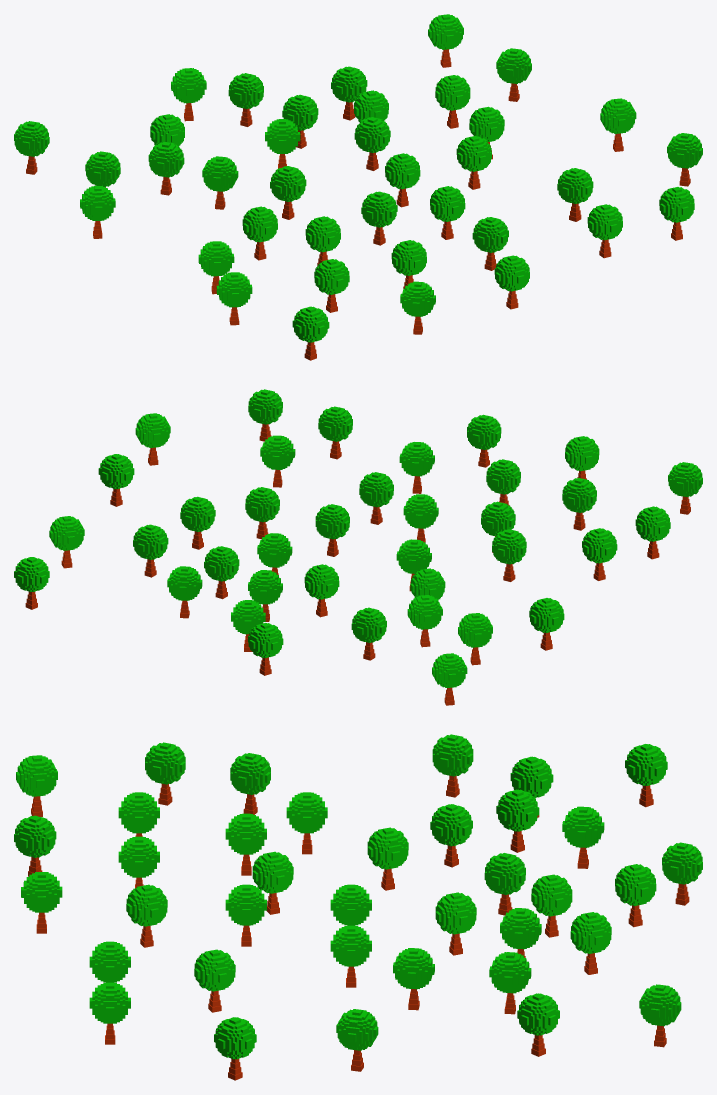
File: tree1.obj
3 views of the same model, one above another, from view 1: azimuth 30°, elevation 25°; view 2: azimuth 150°, elevation 25°; view 3: azimuth 270°, elevation 25° (orthographic). The views are drawn at different scales.
Visible parts, largest first — view 1: 球.034_球.043, 球.019_球.028, 球.006_球.007, 球.011_球.017, 球.007_球.008, 球.010_球.016, 球.017_球.026, 球.009_球.015, 球.013_球.019, 球, 球.029_球.038, 球.001_球.002 (+25 smaller); view 2: 球.024_球.033, 球.027_球.036, 球.013_球.019, 球.022_球.031, 球.014_球.020, 球.015_球.021, 球.033_球.042, 球.021_球.030, 球.032_球.041, 球.016_球.025, 球.017_球.026, 球.018_球.027 (+25 smaller); view 3: 球.029_球.038, 球.023_球.032, 球.020_球.029, 球.035_球.044, 球.025_球.034, 球.024_球.033, 球.030_球.039, 球.028_球.037, 球.011_球.017, 球.007_球.008, 球.010_球.016, 球.012_球.018 (+25 smaller).
Boxes of the visible parts, x1,y1,x2,y2 form: 球.034_球.043: (292, 306, 329, 342); 球.019_球.028: (361, 191, 397, 227); 球.006_球.007: (354, 117, 390, 152); 球.011_球.017: (472, 217, 508, 252); 球.007_球.008: (270, 166, 306, 201); 球.010_球.016: (557, 168, 593, 203); 球.017_球.026: (314, 259, 349, 294); 球.009_球.015: (659, 187, 694, 222); 球.013_球.019: (435, 75, 470, 110); 球: (385, 153, 420, 189); 球.029_球.038: (148, 142, 184, 177); 球.001_球.002: (456, 136, 491, 171); 球.024_球.033: (14, 557, 49, 591); 球.027_球.036: (582, 528, 617, 563); 球.013_球.019: (133, 524, 168, 559); 球.022_球.031: (98, 454, 134, 488); 球.014_球.020: (180, 496, 215, 531); 球.015_球.021: (204, 546, 239, 581); 球.033_球.042: (635, 506, 670, 541); 球.021_球.030: (351, 607, 386, 642); 球.032_球.041: (248, 623, 283, 658); 球.016_球.025: (486, 459, 520, 494); 球.017_球.026: (562, 477, 596, 512); 球.018_球.027: (492, 529, 526, 564); 球.029_球.038: (496, 789, 539, 831); 球.023_球.032: (214, 1017, 256, 1059); 球.020_球.029: (430, 804, 472, 846); 球.035_球.044: (14, 815, 56, 857); 球.025_球.034: (517, 993, 559, 1035); 球.024_球.033: (639, 984, 681, 1026); 球.030_球.039: (432, 734, 473, 776); 球.028_球.037: (625, 744, 667, 785); 球.011_球.017: (126, 884, 167, 926); 球.007_球.008: (367, 827, 408, 869); 球.010_球.016: (194, 949, 235, 991); 球.012_球.018: (484, 853, 525, 894).
Size of the model in its own units: 35.85 by 3.23 by 34.74.
